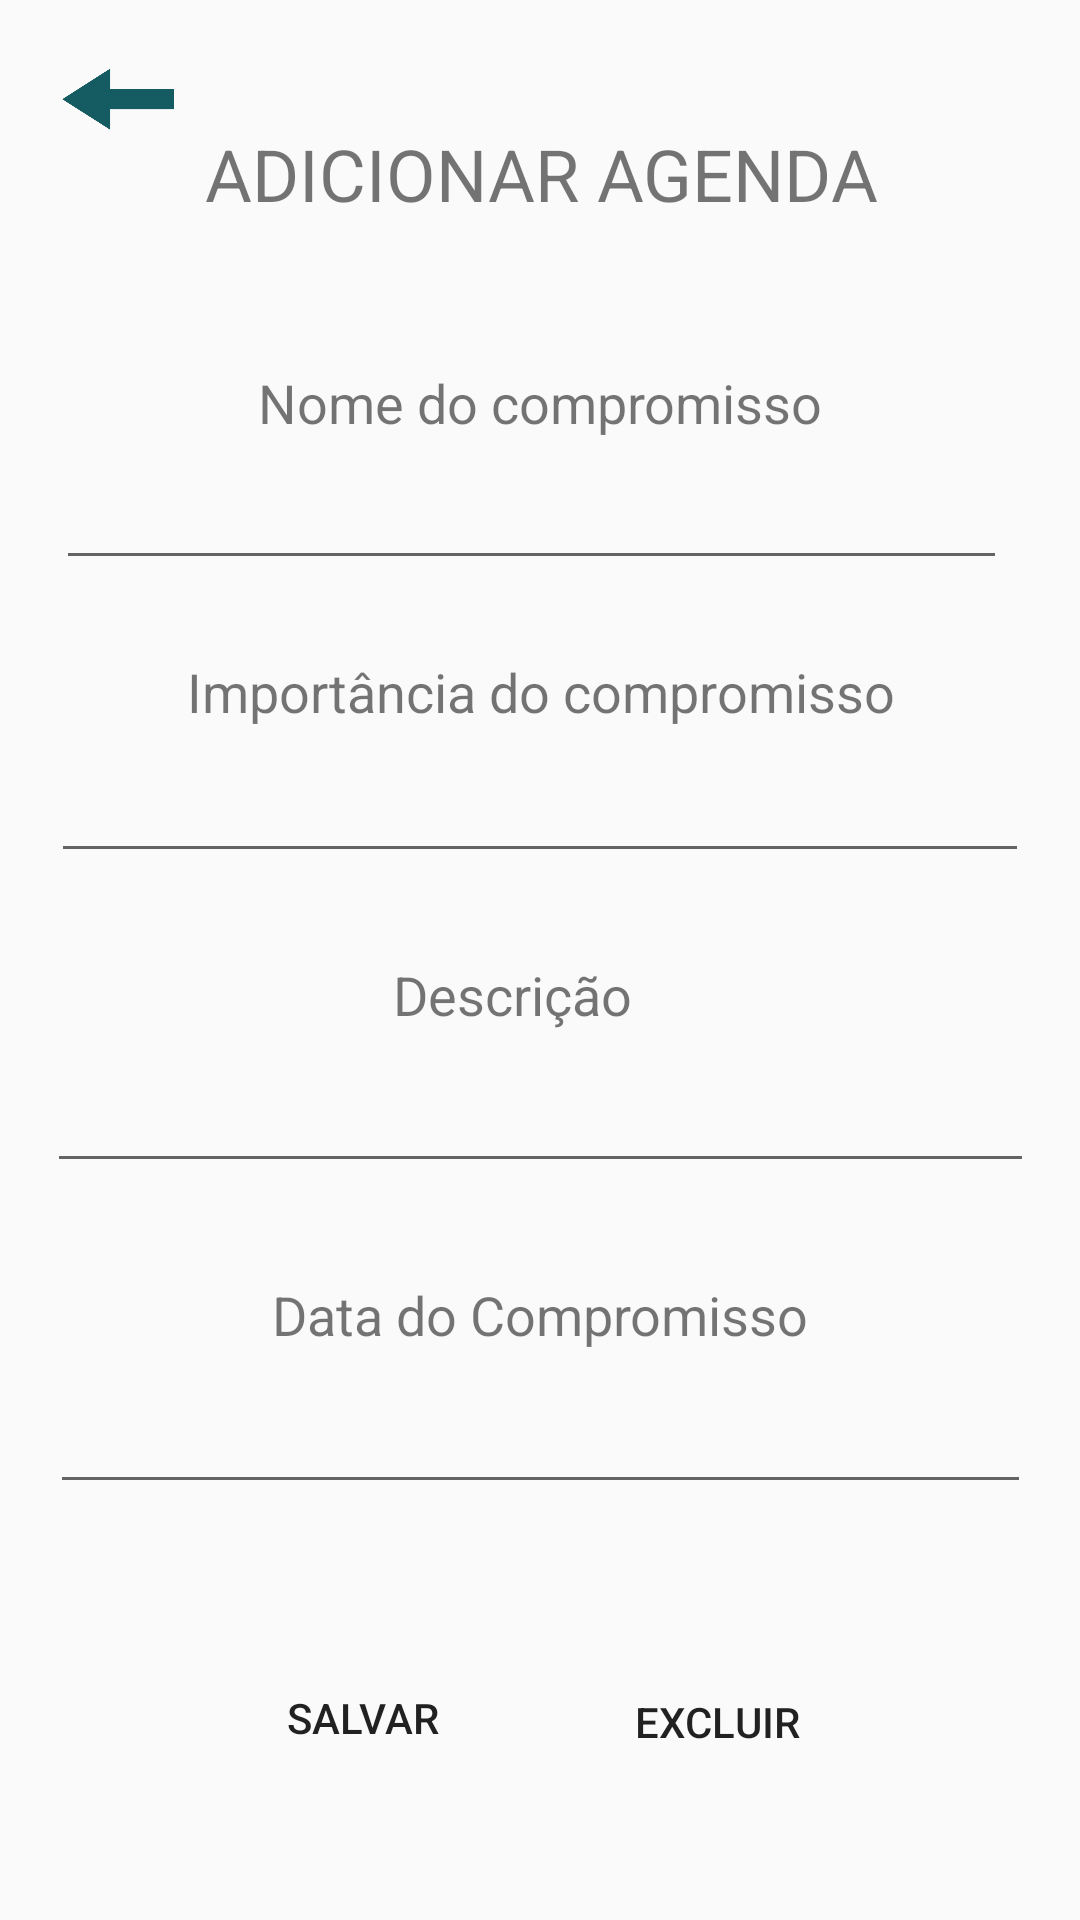

Named icons in this screenshot (1080px x 1920px) and their centers, point (x, y):
btnvoltar: point (118, 99)
